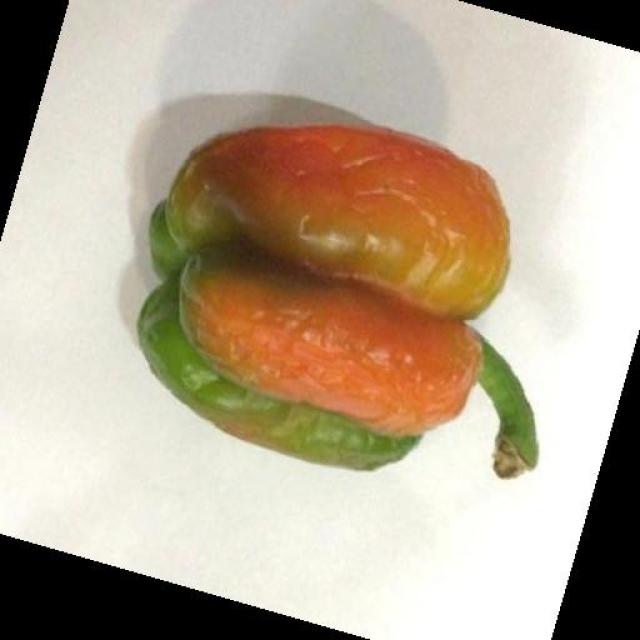Stale_Capsicum: (133, 102, 490, 510)
